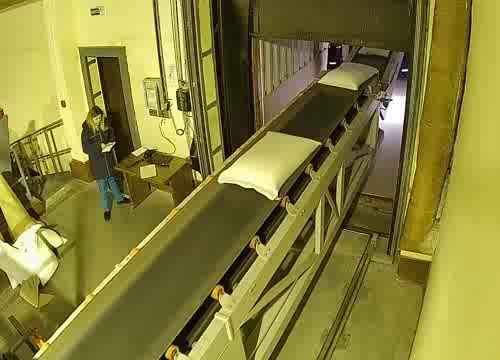bag: (215, 129, 324, 203), (316, 61, 381, 92), (358, 47, 392, 56)
